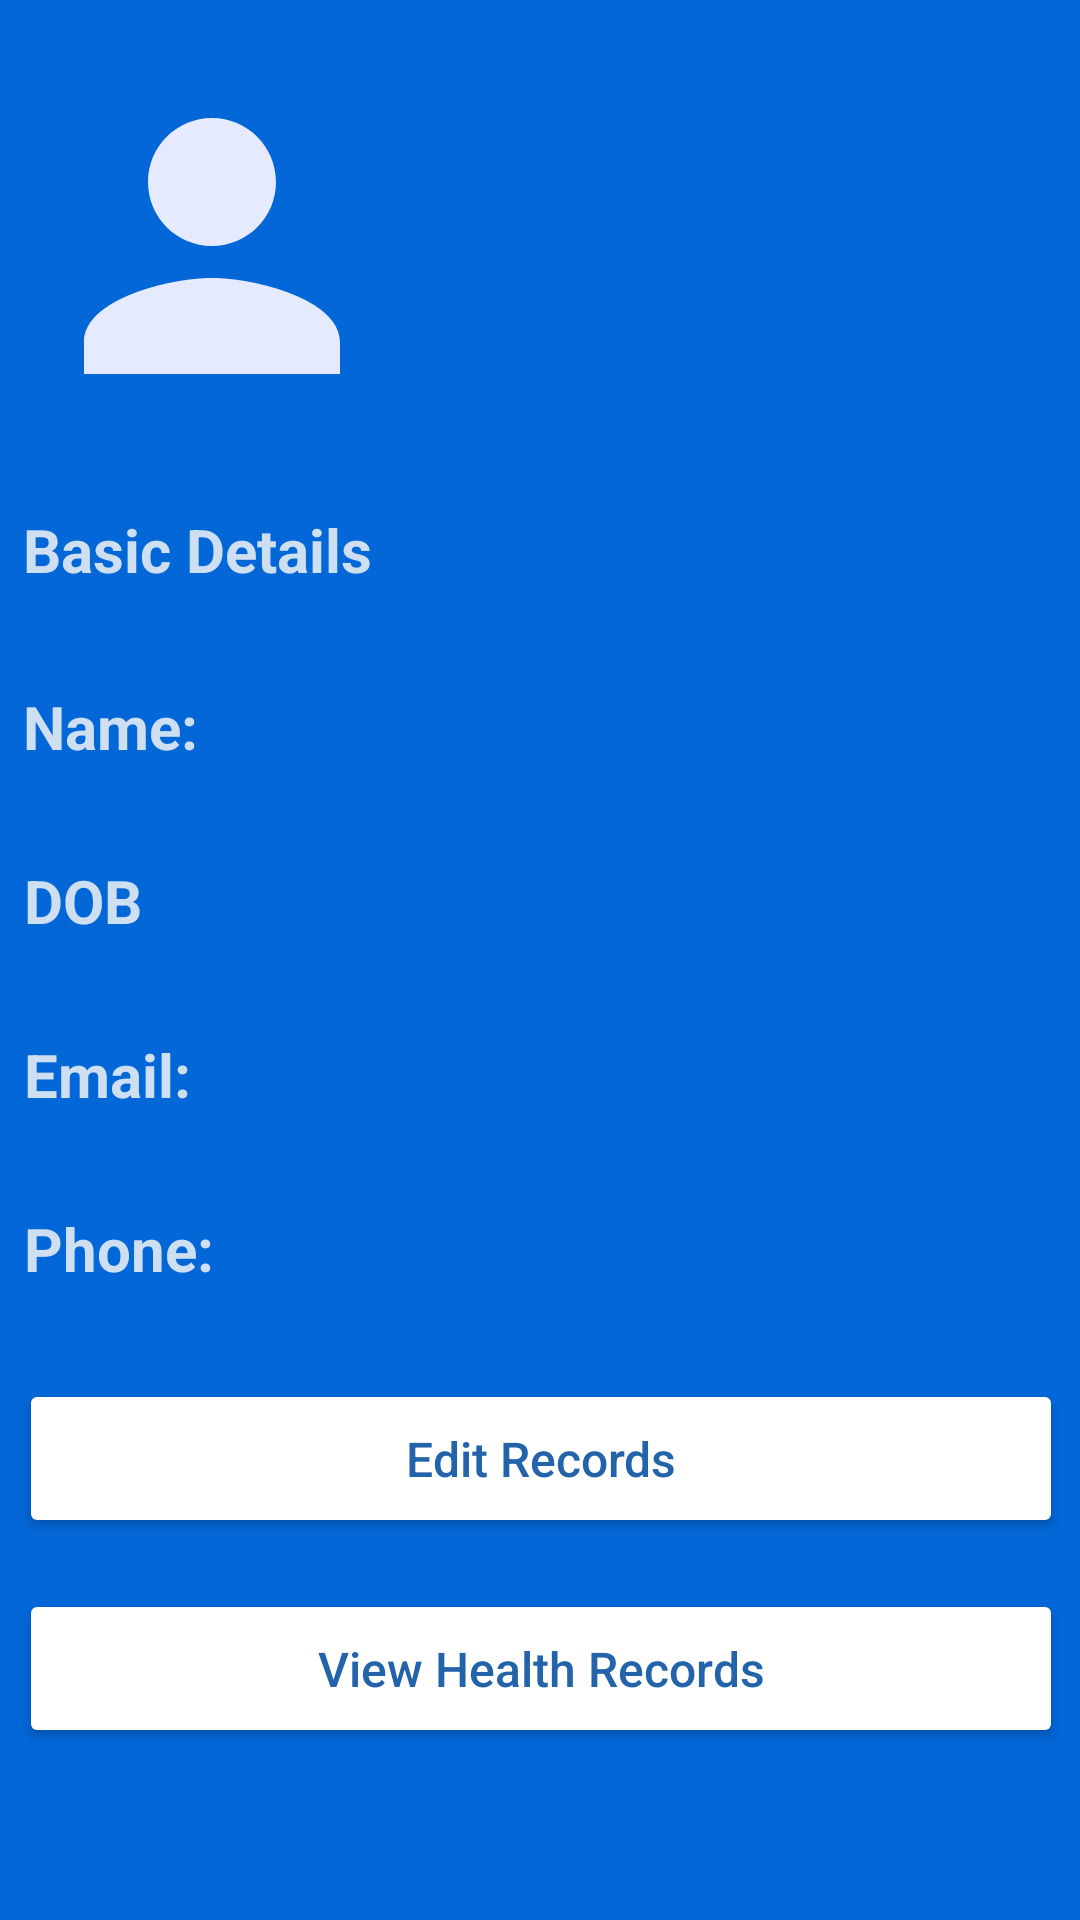

Icons on this 1080×1920 Android screen, each with its box as (left=x1, top=y1, right=x2, bottom=y2):
person: (left=84, top=118, right=340, bottom=374)
